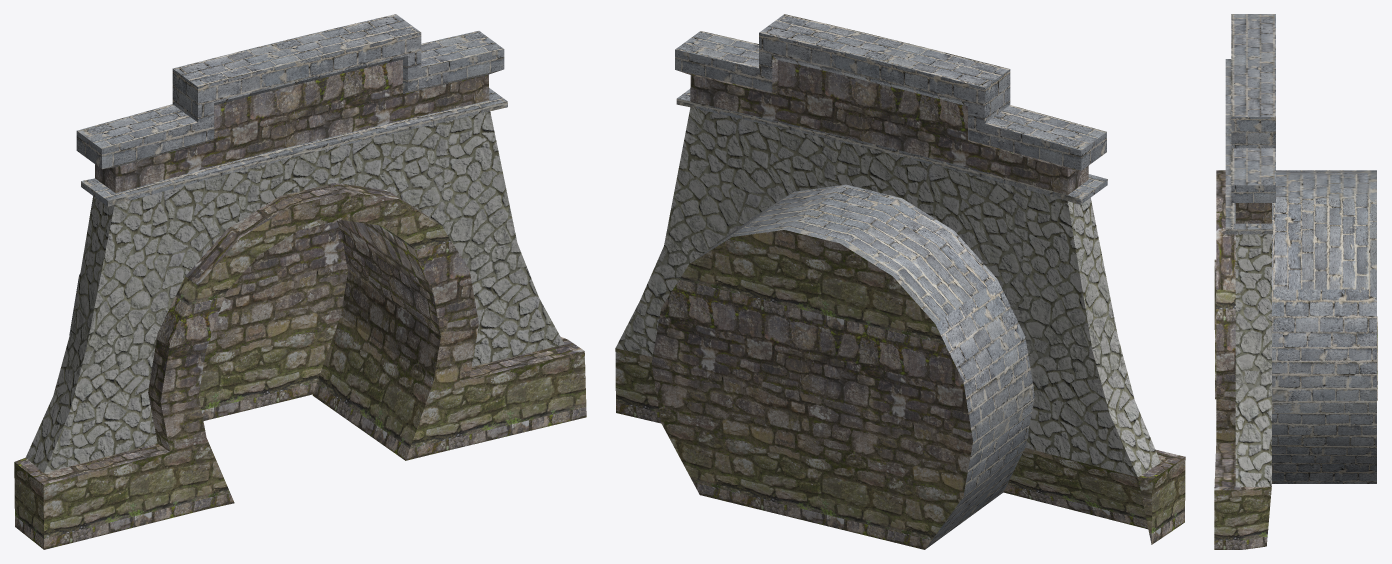
Rendered from railway_entrance.FBX.
3 views of the same model, side by side, from view 1: azimuth 30°, elevation 25°; view 2: azimuth 150°, elevation 25°; view 3: azimuth 270°, elevation 25° (orthographic). The views are drawn at different scales.
Visible parts, largest first — view 1: railway_entrance; view 2: railway_entrance; view 3: railway_entrance.
Part boxes in pixels (bbox=[...]): railway_entrance: bbox=[14, 14, 586, 549]; railway_entrance: bbox=[615, 14, 1185, 549]; railway_entrance: bbox=[1214, 14, 1377, 549].
Bounding box in the file's own units: 171 × 125 × 50.43.
3 materials, 3 textured.
